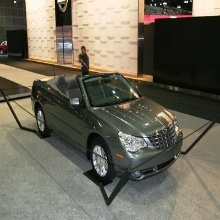no damage: (30, 72, 184, 184)
